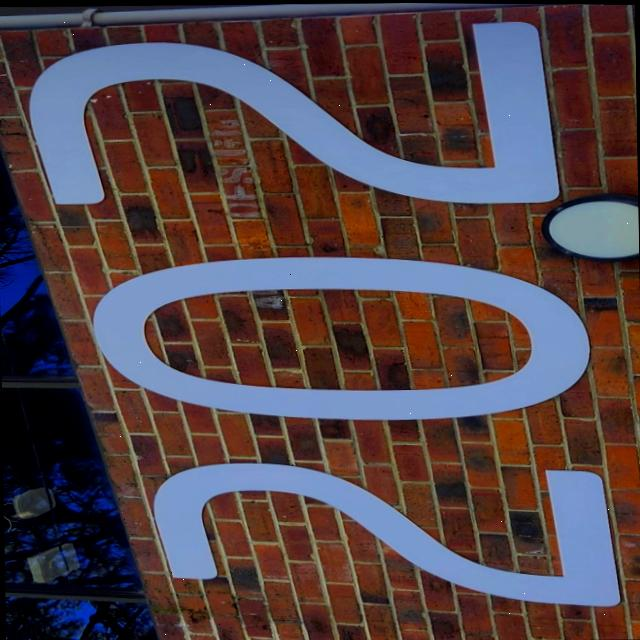character: (17, 12, 566, 213), (87, 245, 598, 427), (148, 450, 628, 616)
